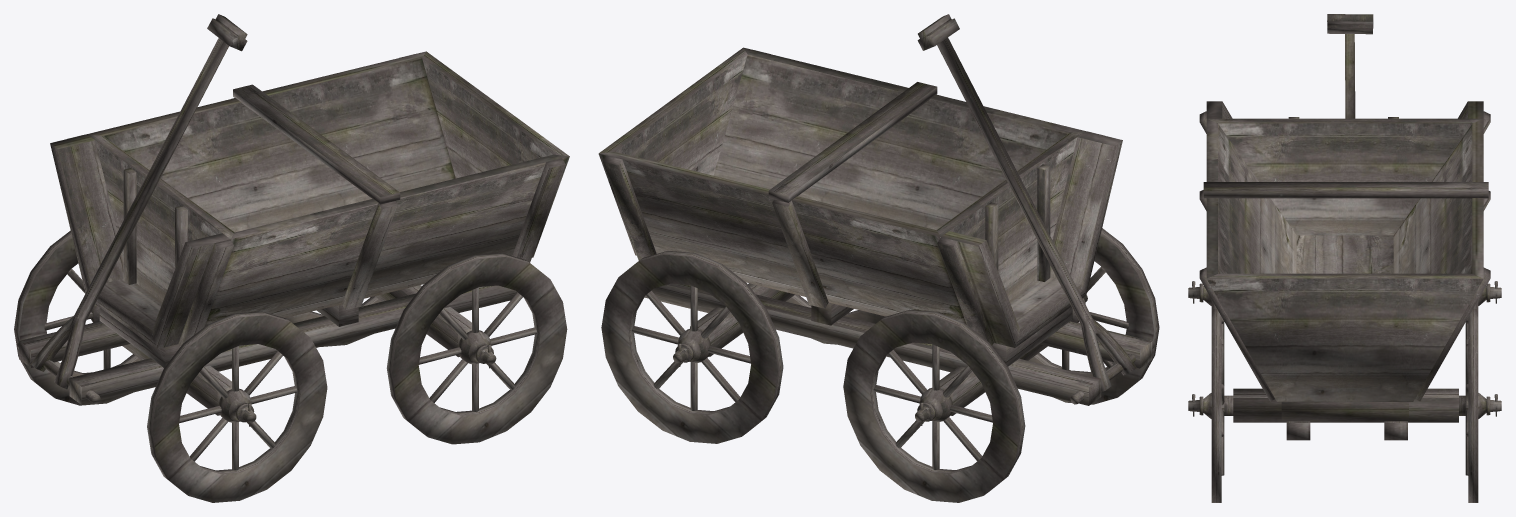
File: cart1.dae
3 views of the same model, side by side, from view 1: azimuth 30°, elevation 25°; view 2: azimuth 150°, elevation 25°; view 3: azimuth 270°, elevation 25° (orthographic). The views are drawn at different scales.
Visible parts, largest first — view 1: meshU3D; view 2: meshU3D; view 3: meshU3D.
Part boxes in pixels (bbox=[...]): meshU3D: bbox=[14, 14, 569, 502]; meshU3D: bbox=[598, 14, 1159, 502]; meshU3D: bbox=[1188, 14, 1501, 502].
Size of the model in its own units: 94.41 by 82.25 by 58.98.
